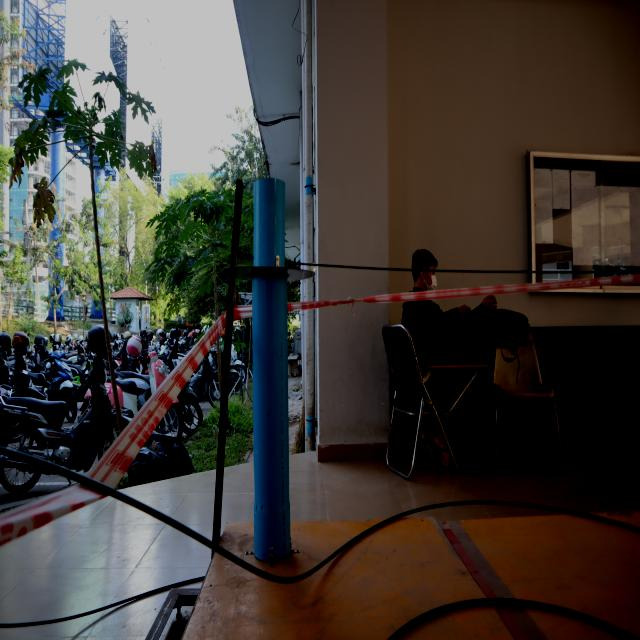pole: (218, 170, 330, 373)
